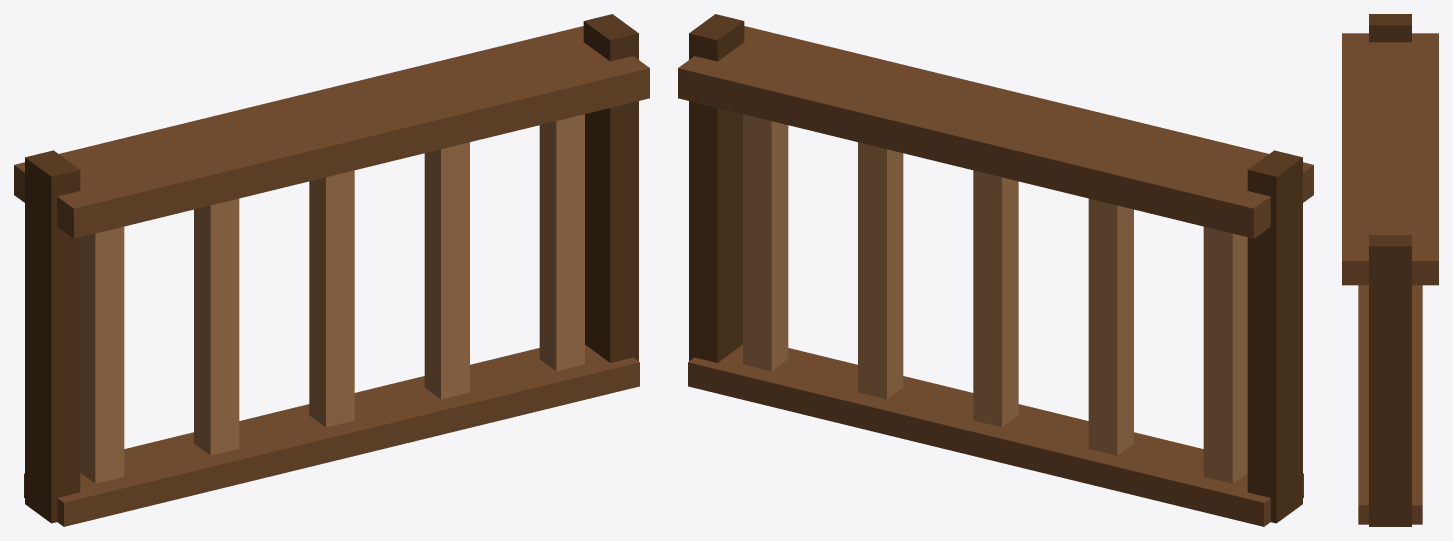
File: ncb-railing.glb
The picture shows the model from 3 angles, left to right: view 1: azimuth 30°, elevation 25°; view 2: azimuth 150°, elevation 25°; view 3: azimuth 270°, elevation 25°; orthographic projection. The views are drawn at different scales.
Visible parts, largest first — view 1: box-prop; view 2: box-prop; view 3: box-prop.
Boxes of the visible parts, x1,y1,x2,y2 form: box-prop: (14,14,649,526); box-prop: (678,14,1313,526); box-prop: (1342,14,1438,526).
Size of the model in its own units: 2.04 by 1.15 by 0.36.
